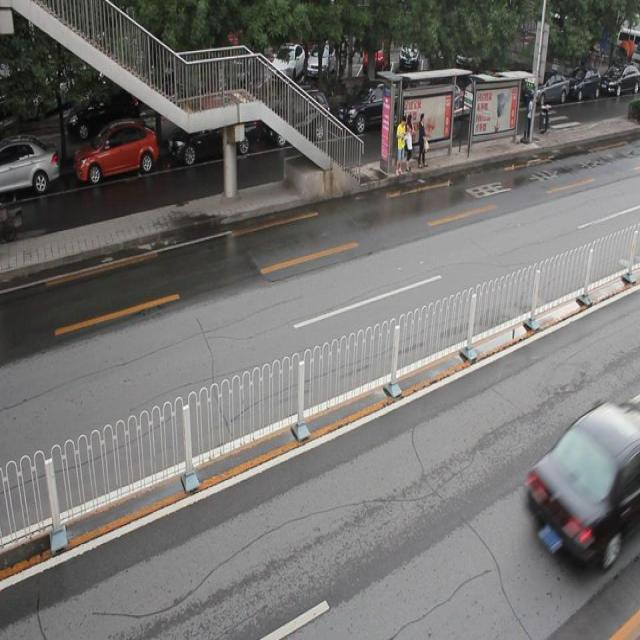car: (523, 400, 640, 568), (169, 100, 258, 162), (74, 121, 158, 182), (265, 87, 330, 148), (341, 79, 408, 134), (1, 136, 61, 196)
